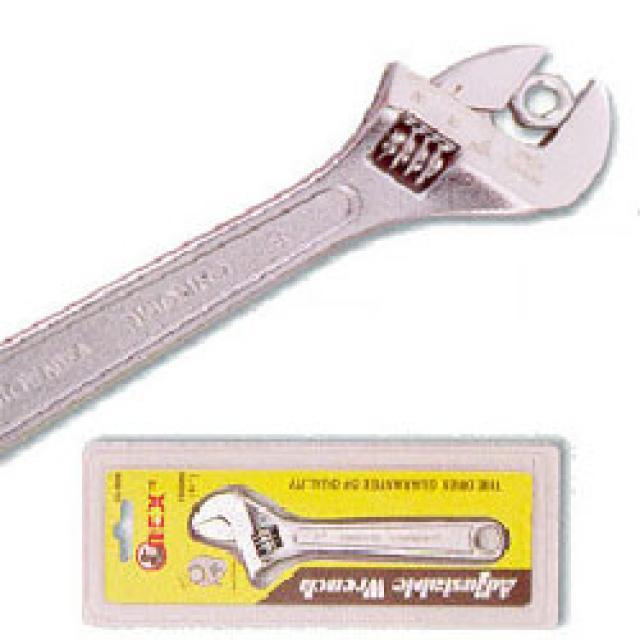wrench: (0, 32, 625, 430)
